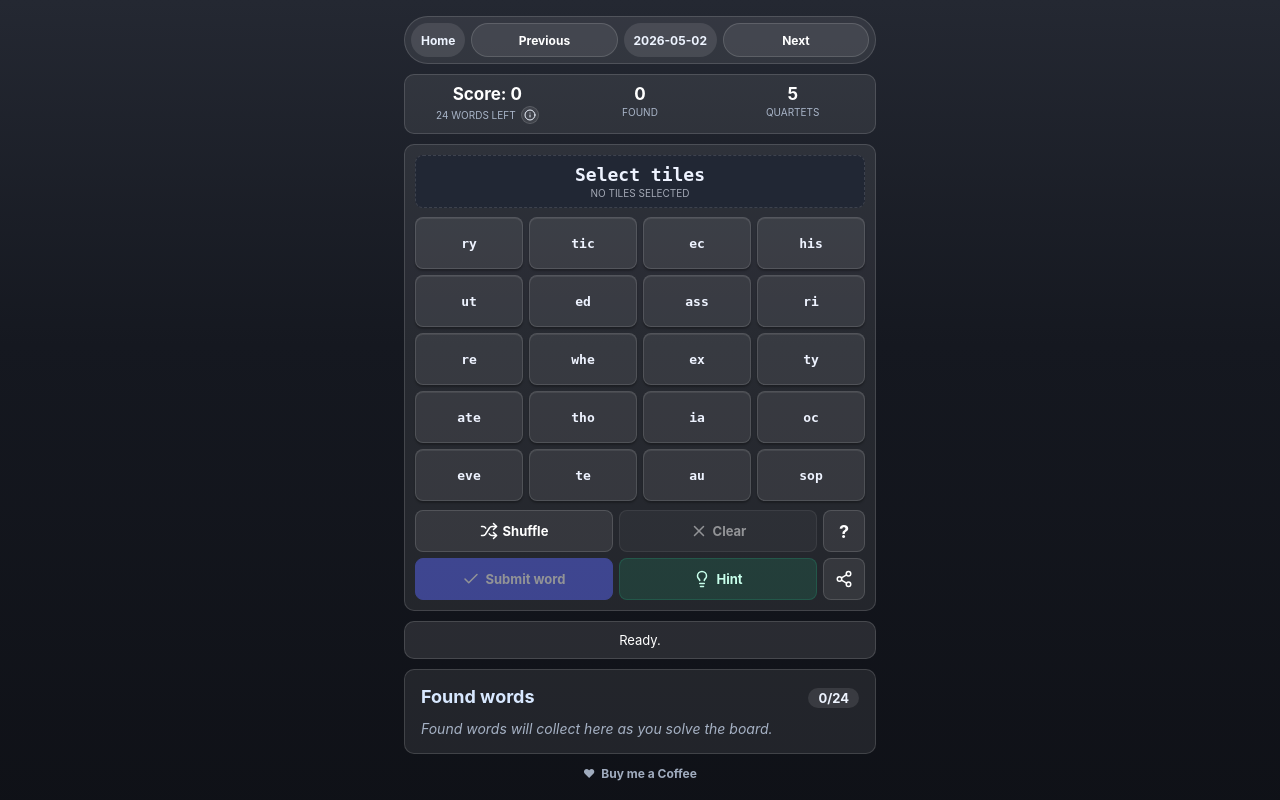
Test: lexitiles app › does not show a medal next to the game score after only finding where
This screenshot has width=1280, height=800.
Click the button "whe" at (583, 359), box [529,333,637,385]
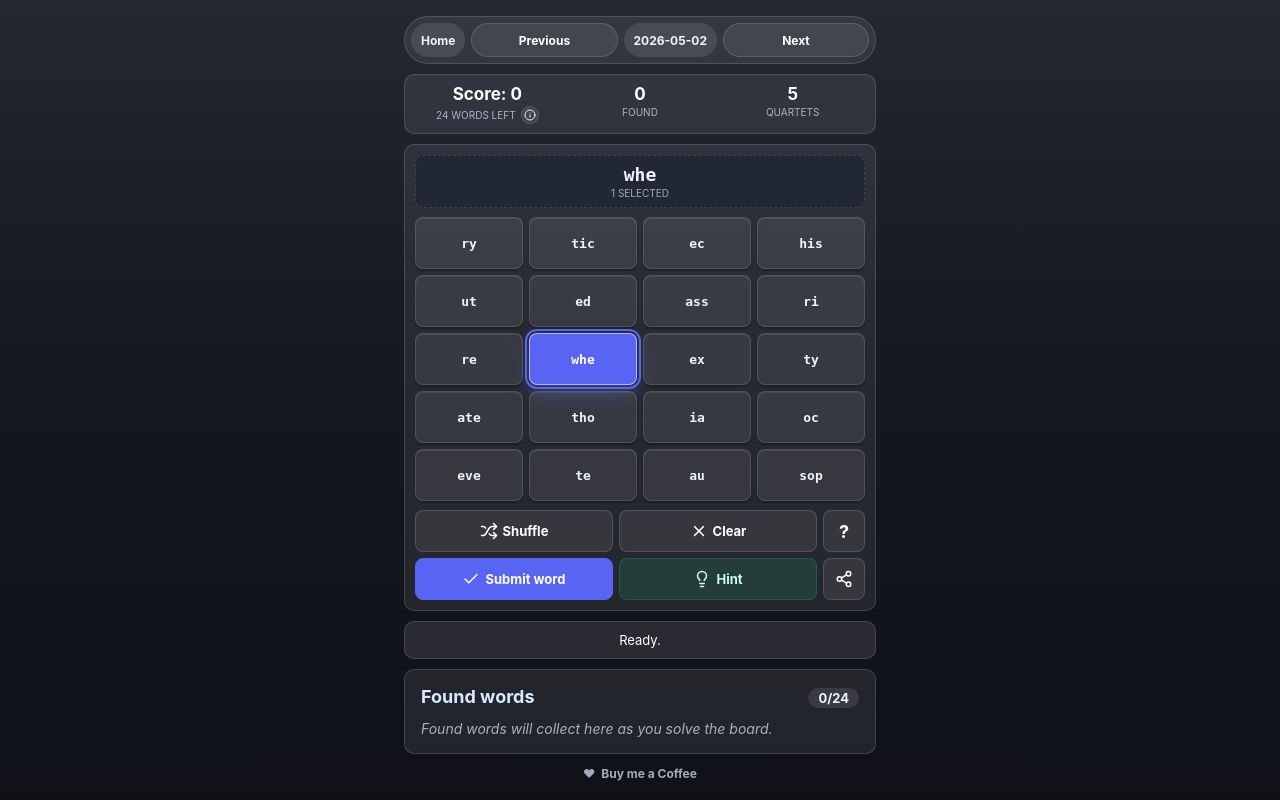
Click the button "re" at (469, 359), box [415,333,523,385]
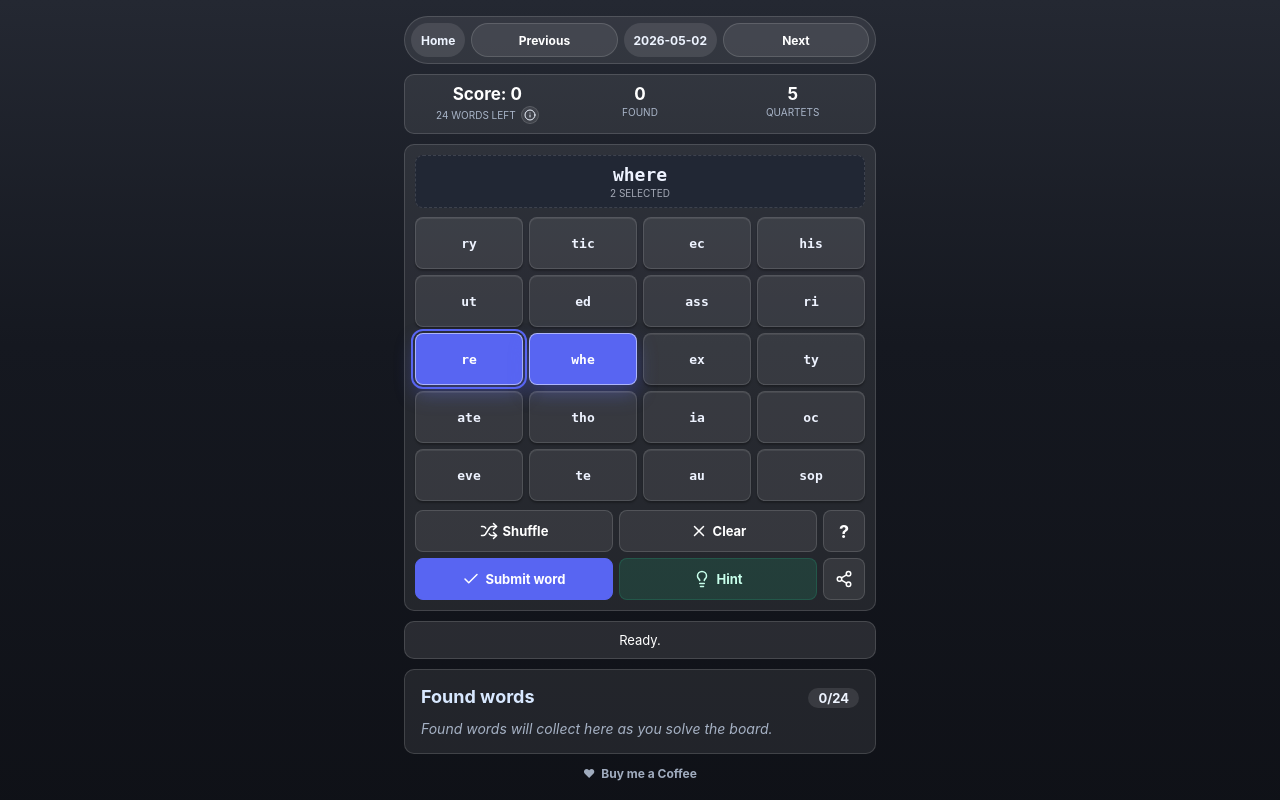
Click the button "Submit word" at (514, 579), box [415,558,613,600]
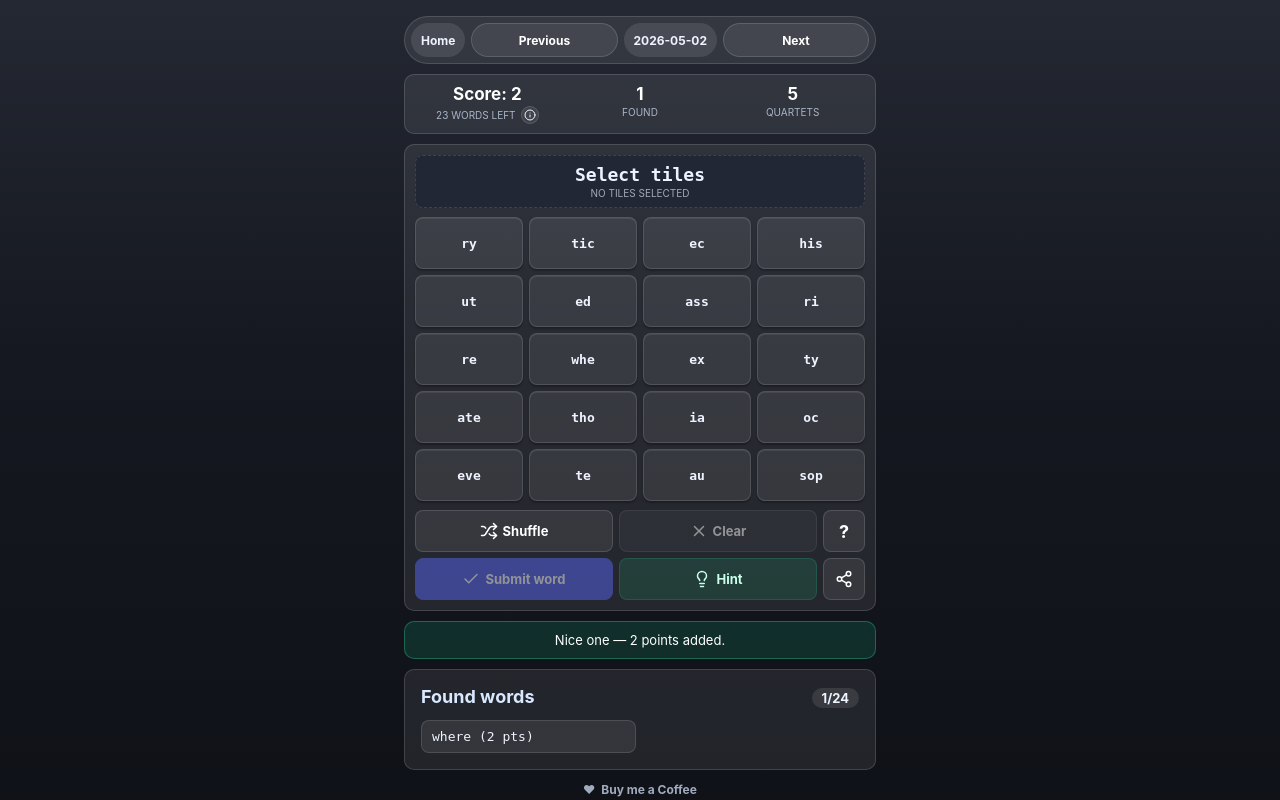
Check: the text "Score: 2" is shown, box [453,84,522,104]
